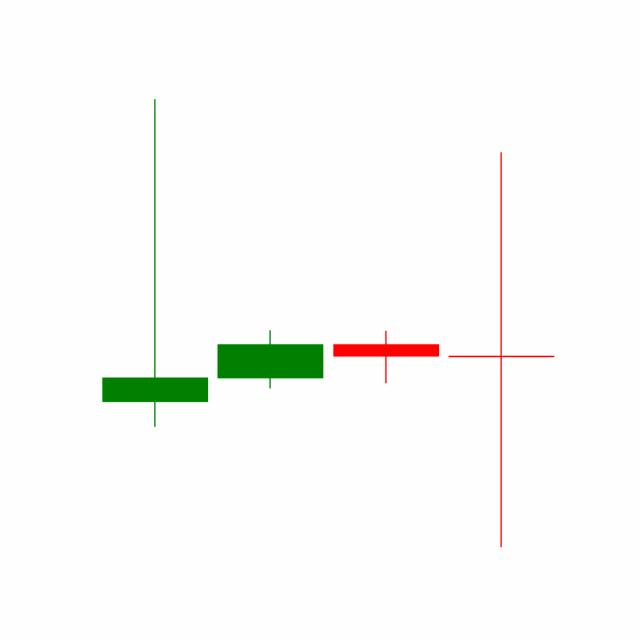Hammer: (328, 330, 444, 384)
